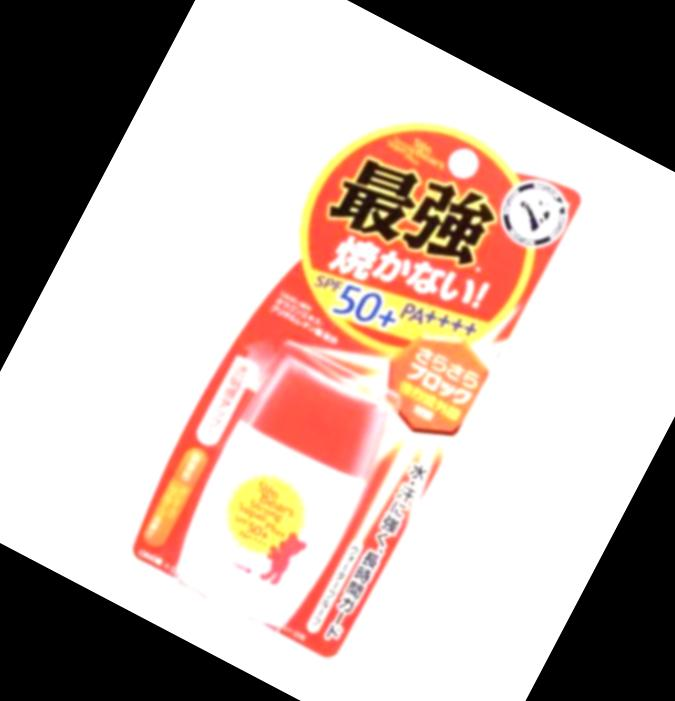cosmetic: (156, 348, 405, 646)
